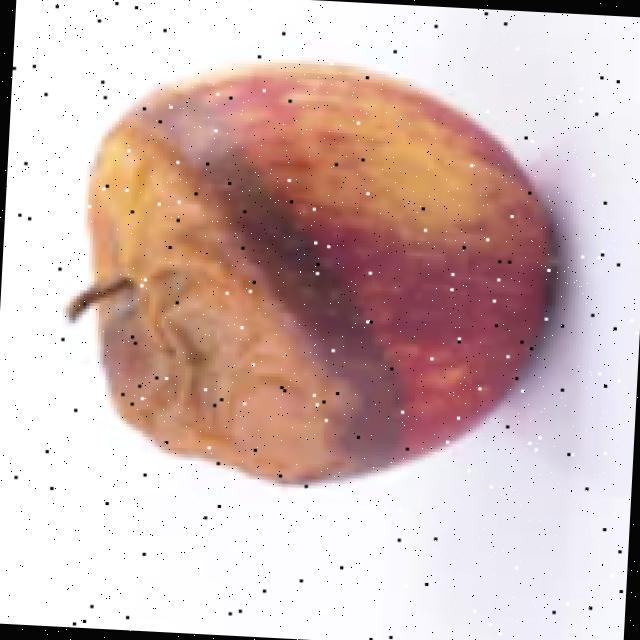Rotten: (61, 40, 574, 505)
